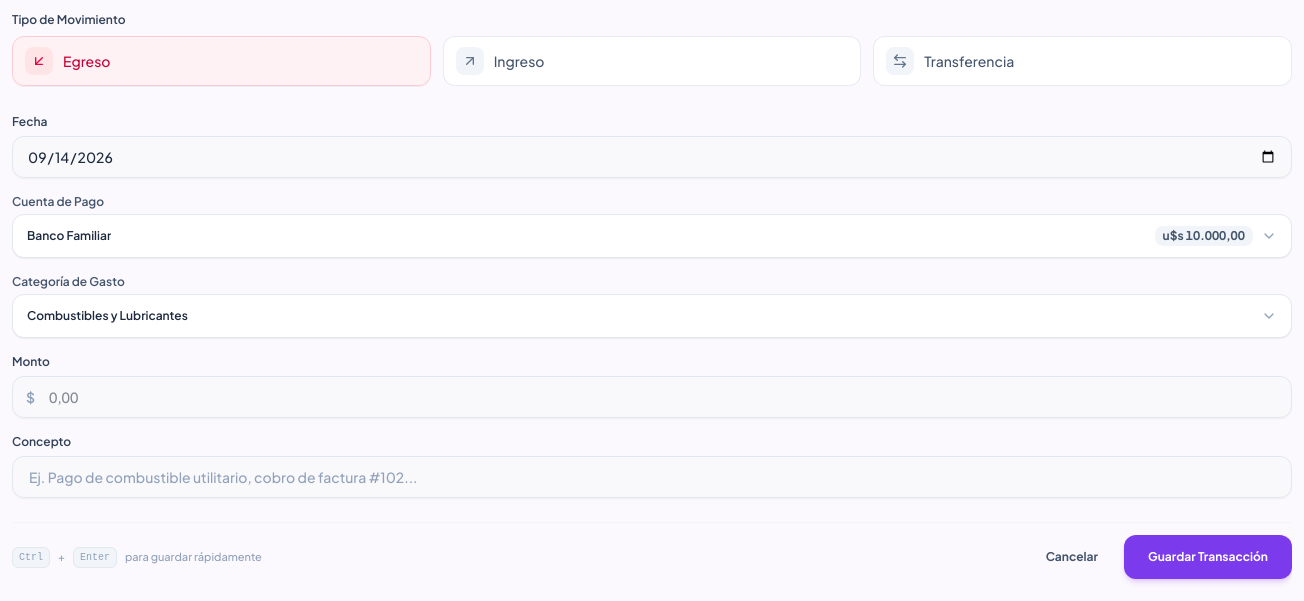
it: QuickTransactionForm Component (T007) › User Adjustments: Mode switching, zero-decimal currencies, and styling › clears secondary account when switching from Expense to Transfer if an Expense account was selected
Expected: the text "Combustibles y Lubricantes" is shown, [27,308,188,324]
# Switch to Transfer
Click the button "Transferencia". click: {"x": 969, "y": 61}
box: [873,36,1292,86]
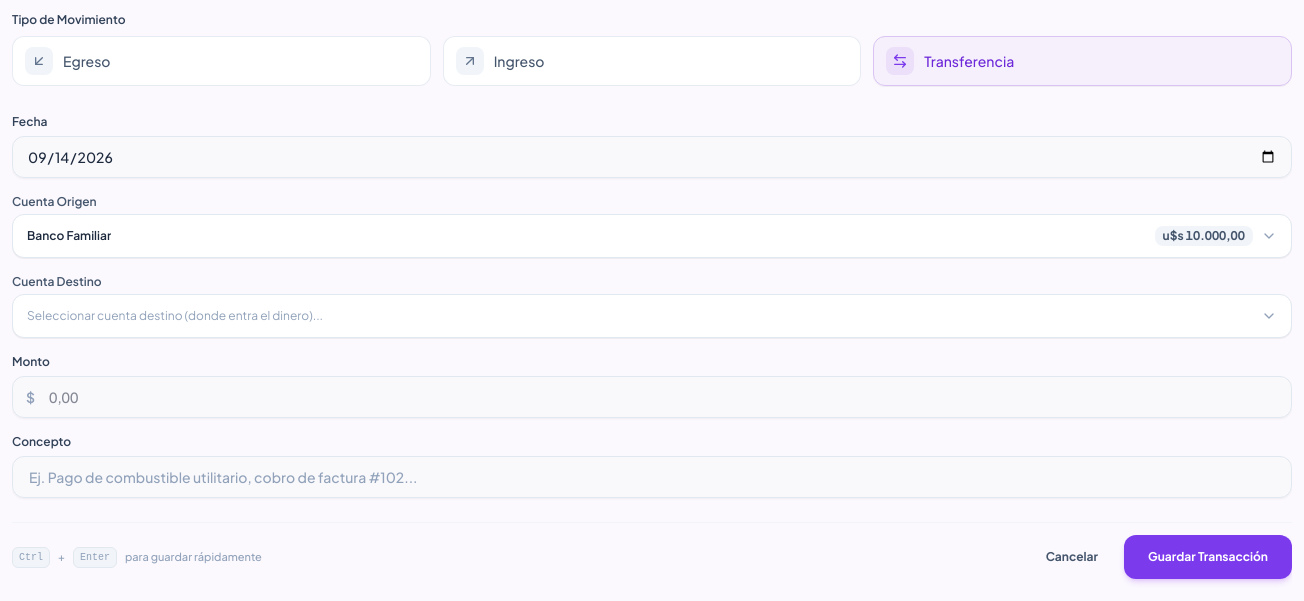
Now the dropdown "Combustibles y Lubricantes" is gone
Now the text "Seleccionar cuenta destino (donde entra el dinero)..." is shown, box [27,308,323,323]
